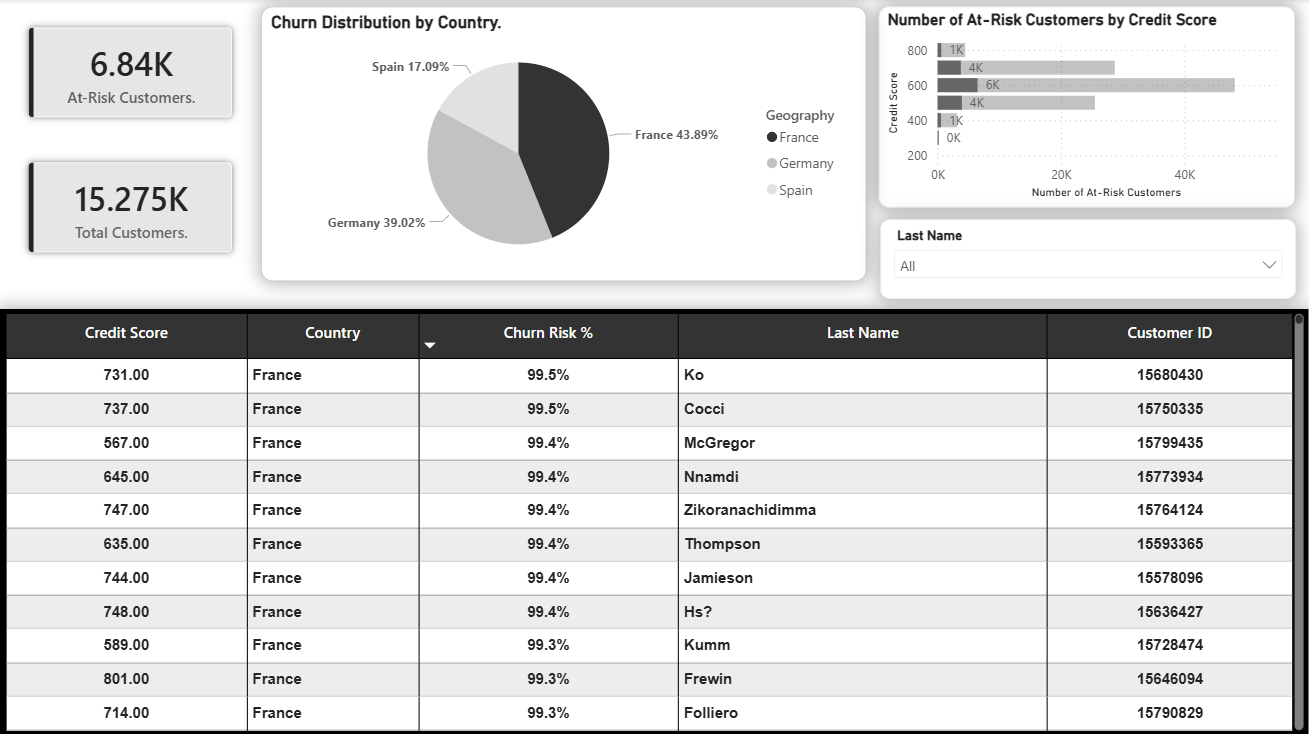

What the dashboard file says about the page in this screenshot:
{"tool":"powerbi","page":{"name":"Page 1","canvas":[1280,720],"ordinal":0},"visuals":[{"type":"cardVisual","fields":{"Data":["CountNonNull(final_churn_predictions.id)"]},"box":[0,132.1,255,144],"z":0},{"type":"cardVisual","fields":{"Data":["CountNonNull(final_churn_predictions.id)"]},"box":[0,0,255.6,144.3],"z":1000},{"type":"pieChart","title":"Churn Distribution by Country.","fields":{"Category":["final_churn_predictions.Geography"],"Y":["Sum(final_churn_predictions.id)"]},"box":[255.6,7.3,591.9,269],"z":2000},{"type":"tableEx","fields":{"Values":["final_churn_predictions.CreditScore","final_churn_predictions.Geography","final_churn_predictions.Churn_Probability","final_churn_predictions.Surname","final_churn_predictions.CustomerId"]},"box":[0,303.3,1280.3,417],"z":3000},{"type":"clusteredBarChart","fields":{"Category":["final_churn_predictions.CreditScore (bins)"],"Y":["CountNonNull(final_churn_predictions.Churn_Probability)"]},"box":[859.7,7.3,407.2,196.9],"z":4000},{"type":"slicer","fields":{"Values":["final_churn_predictions.Surname"]},"box":[860.9,215.2,407.2,78.3],"z":5000}]}

Visuals, with their boxes in screenshot pixels (x1, y1, x2, y2), scaled from the page's 1280x720 canvas onto the 1309x734 screenshot:
cardVisual - CountNonNull(final_churn_predictions.id): bbox=(0, 135, 261, 281)
cardVisual - CountNonNull(final_churn_predictions.id): bbox=(0, 0, 261, 147)
"Churn Distribution by Country." pieChart: bbox=(261, 7, 867, 282)
tableEx - final_churn_predictions.CreditScore x final_churn_predictions.Geography: bbox=(0, 309, 1308, 733)
clusteredBarChart - final_churn_predictions.CreditScore (bins) x CountNonNull(final_churn_predictions.Churn_Probability): bbox=(879, 7, 1296, 208)
slicer - final_churn_predictions.Surname: bbox=(880, 219, 1297, 299)
